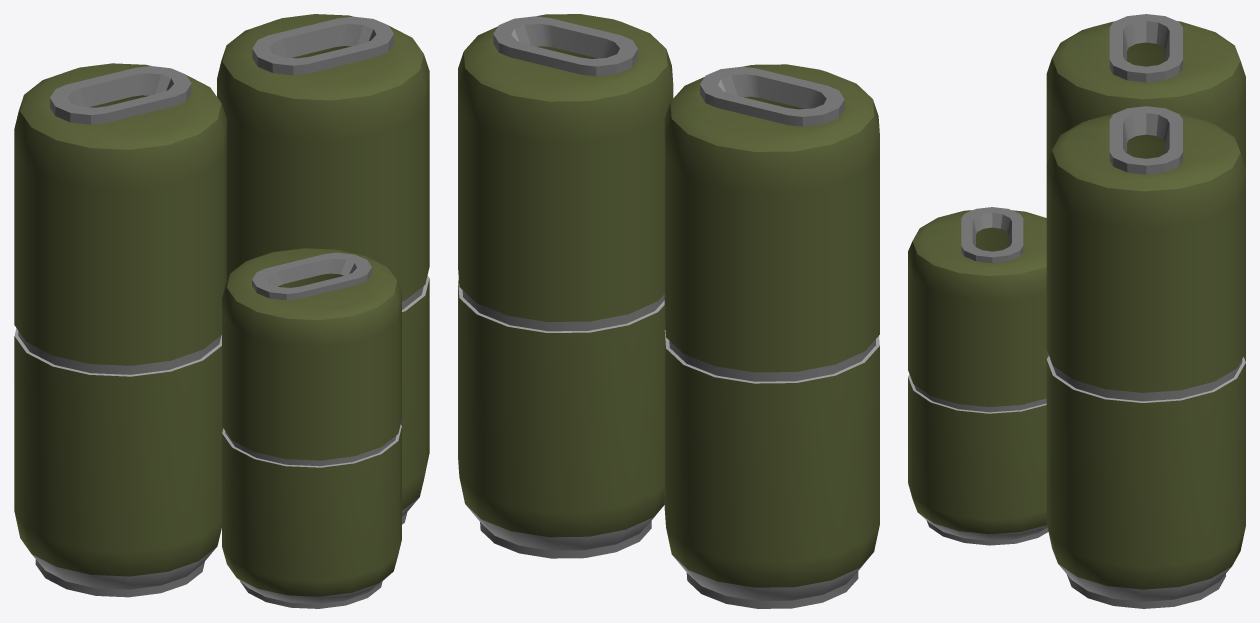
Rendered from colored beer cans.fbx.
3 views of the same model, side by side, from view 1: azimuth 30°, elevation 25°; view 2: azimuth 150°, elevation 25°; view 3: azimuth 270°, elevation 25° (orthographic). The views are drawn at different scales.
Visible parts, largest first — view 1: pCylinder4, pCylinder3, pCylinder5; view 2: pCylinder4, pCylinder5; view 3: pCylinder5, pCylinder3, pCylinder4.
Boxes of the visible parts, bbox=[...] form: pCylinder4: bbox=[14, 63, 226, 597]; pCylinder3: bbox=[222, 248, 401, 608]; pCylinder5: bbox=[217, 14, 429, 524]; pCylinder4: bbox=[664, 64, 879, 608]; pCylinder5: bbox=[458, 14, 673, 558]; pCylinder5: bbox=[1046, 106, 1245, 608]; pCylinder3: bbox=[908, 207, 1048, 545]; pCylinder4: bbox=[1046, 14, 1245, 361].
Size of the model in its own units: 0.1508 by 0.1751 by 0.1221.
